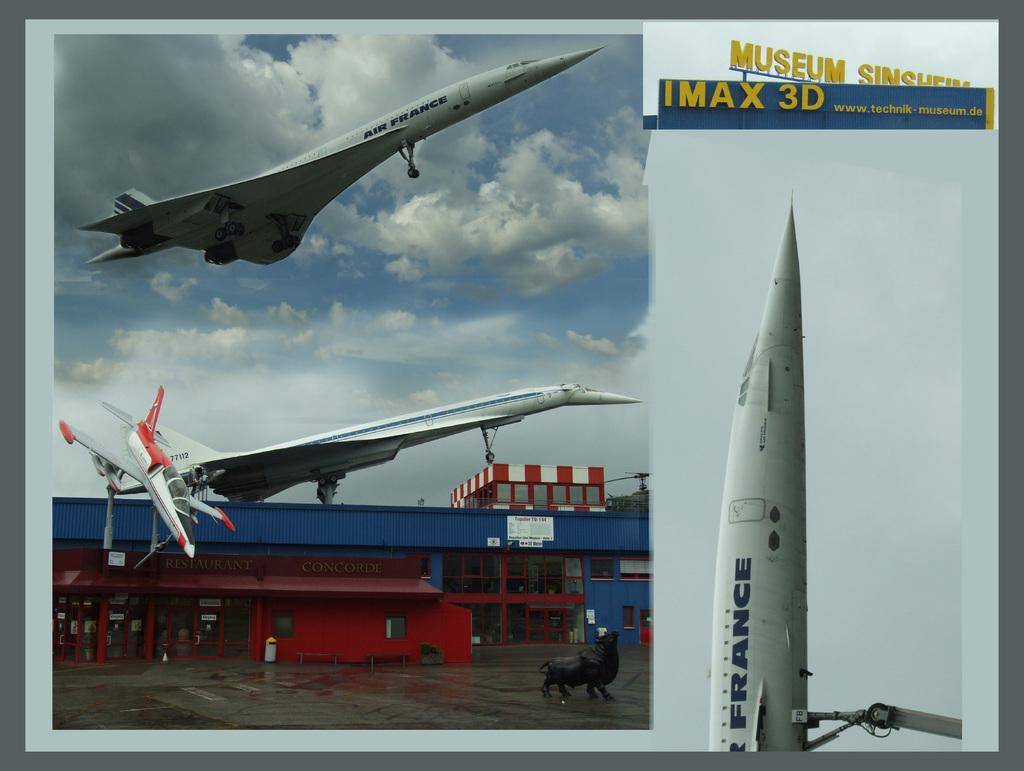Missile: (705, 184, 892, 761)
